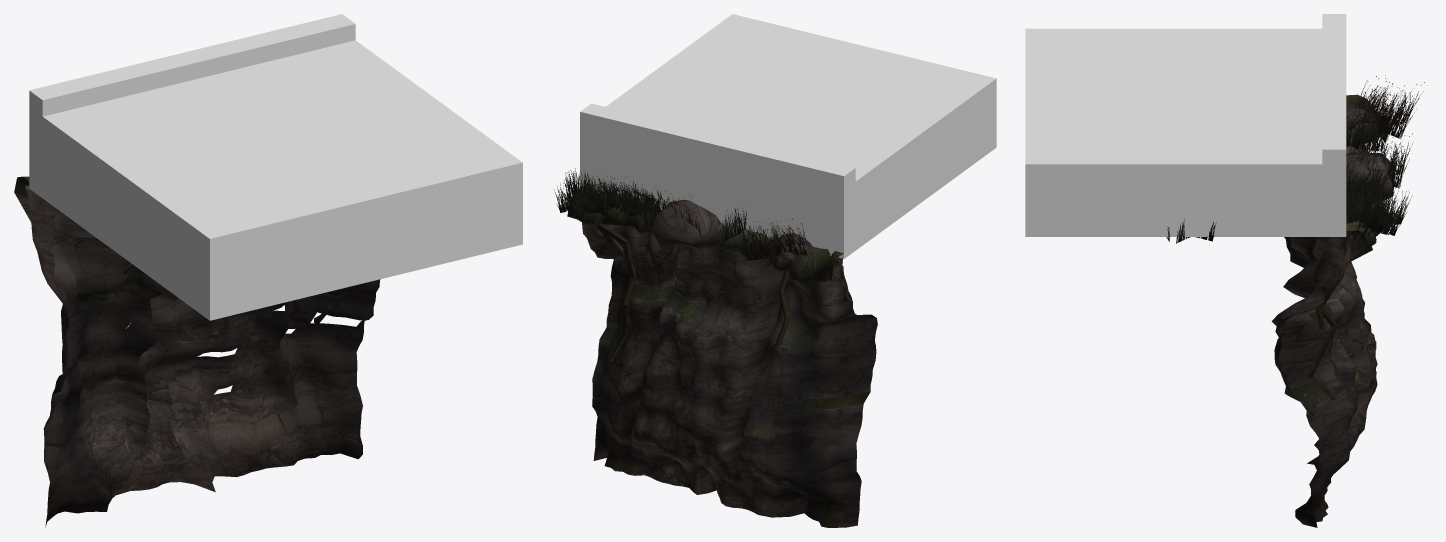
File: cliff_edge_straight_4m.glb
The picture shows the model from 3 angles, left to right: view 1: azimuth 30°, elevation 25°; view 2: azimuth 150°, elevation 25°; view 3: azimuth 270°, elevation 25°; orthographic projection. The views are drawn at different scales.
Parts seen in each view (by area): view 1: col_walk_cliff_edge_straight_4m, cliff_edge_straight_4m, col_block_rim_cliff_edge_straight_4m_0; view 2: cliff_edge_straight_4m, col_walk_cliff_edge_straight_4m, col_block_rim_cliff_edge_straight_4m_0; view 3: col_walk_cliff_edge_straight_4m, cliff_edge_straight_4m, col_block_rim_cliff_edge_straight_4m_0.
Part boxes in pixels (left/top/right/bottom): col_walk_cliff_edge_straight_4m: left=29, top=40, right=522, bottom=320; cliff_edge_straight_4m: left=14, top=176, right=380, bottom=527; col_block_rim_cliff_edge_straight_4m_0: left=29, top=14, right=355, bottom=197; cliff_edge_straight_4m: left=554, top=168, right=877, bottom=527; col_walk_cliff_edge_straight_4m: left=580, top=14, right=996, bottom=258; col_block_rim_cliff_edge_straight_4m_0: left=580, top=103, right=855, bottom=258; col_walk_cliff_edge_straight_4m: left=1025, top=28, right=1346, bottom=236; cliff_edge_straight_4m: left=1166, top=75, right=1424, bottom=527; col_block_rim_cliff_edge_straight_4m_0: left=1322, top=14, right=1346, bottom=236.
Bounding box in the file's own units: 4.21 × 5.2 × 5.06.
5 materials, 5 textured.
